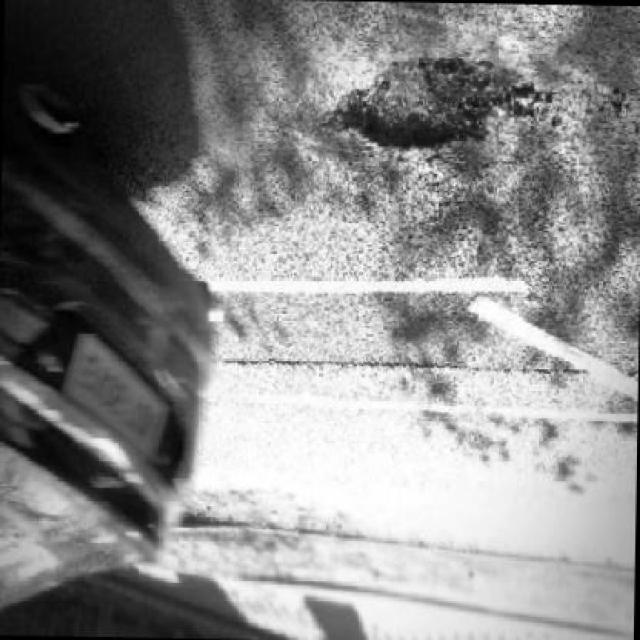pothole: (321, 52, 530, 154), (176, 506, 236, 532)
